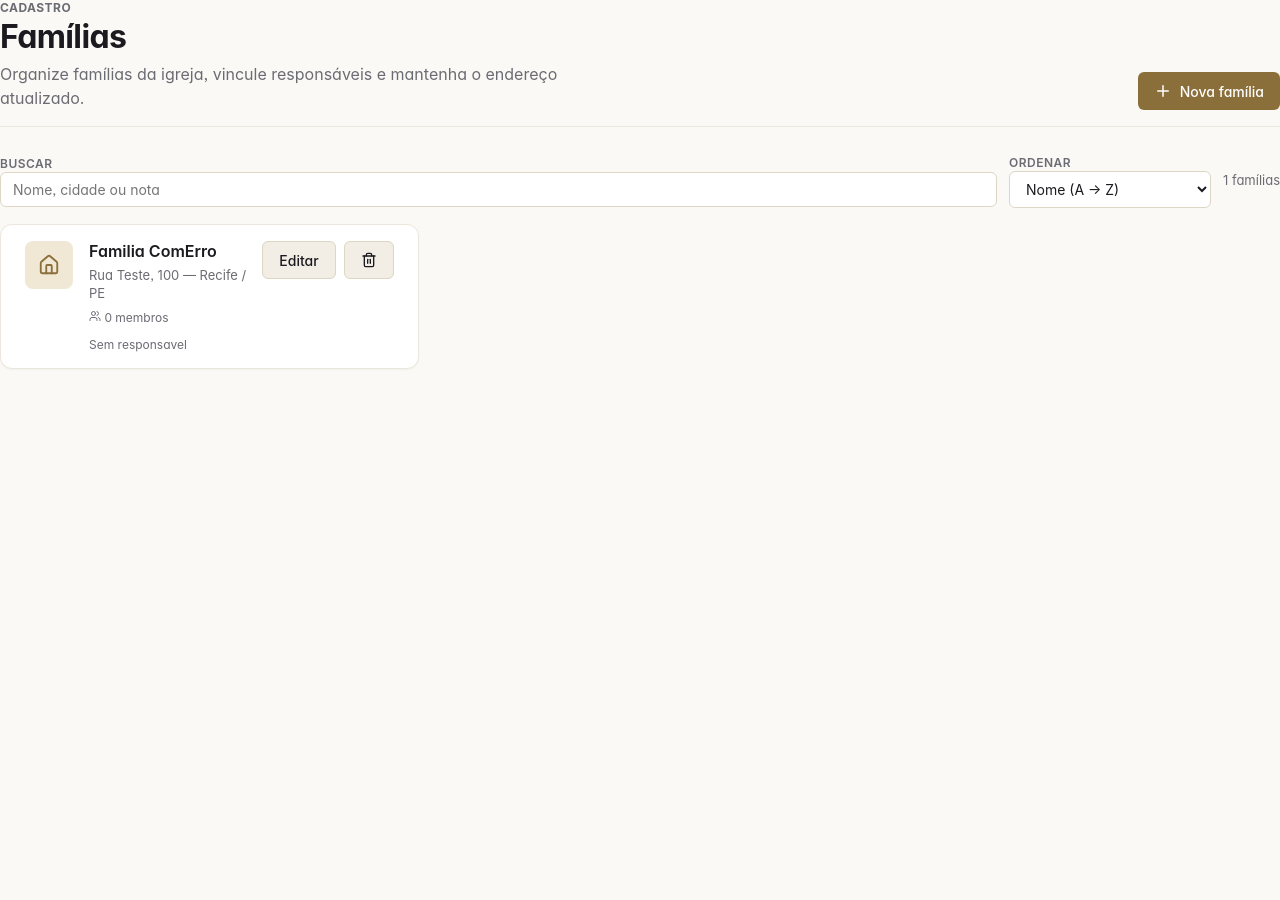
Test: HouseholdsView › shows a danger toast when archive fails
Expected: the heading "Familia ComErro" is shown, x1=89 y1=241 x2=217 y2=262
Click the button named "Arquivar familia Familia ComErro".
click(369, 260)  # box x1=344 y1=241 x2=394 y2=279
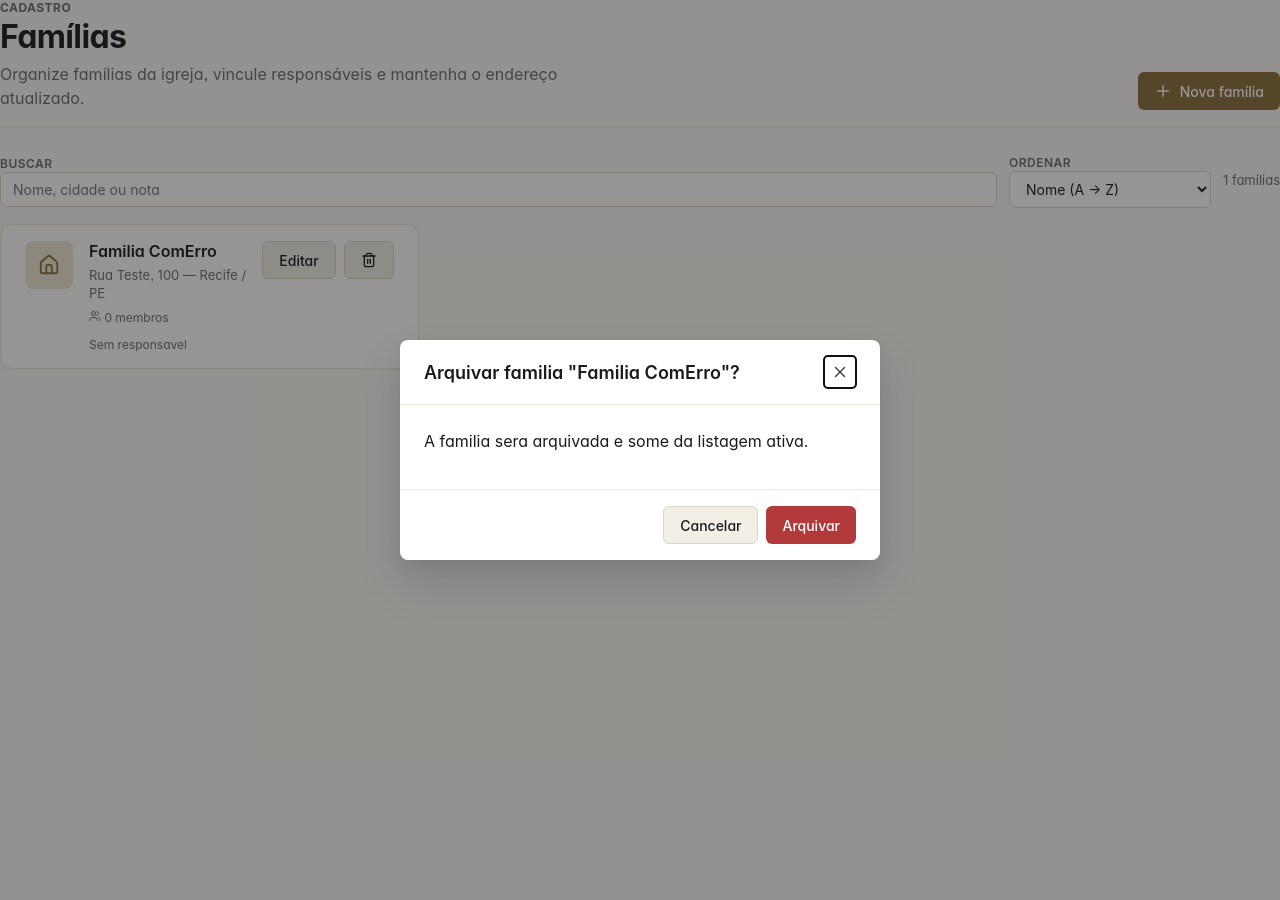
Click the button with test id "confirm-dialog-confirm".
click(811, 525)  # box x1=766 y1=506 x2=856 y2=544
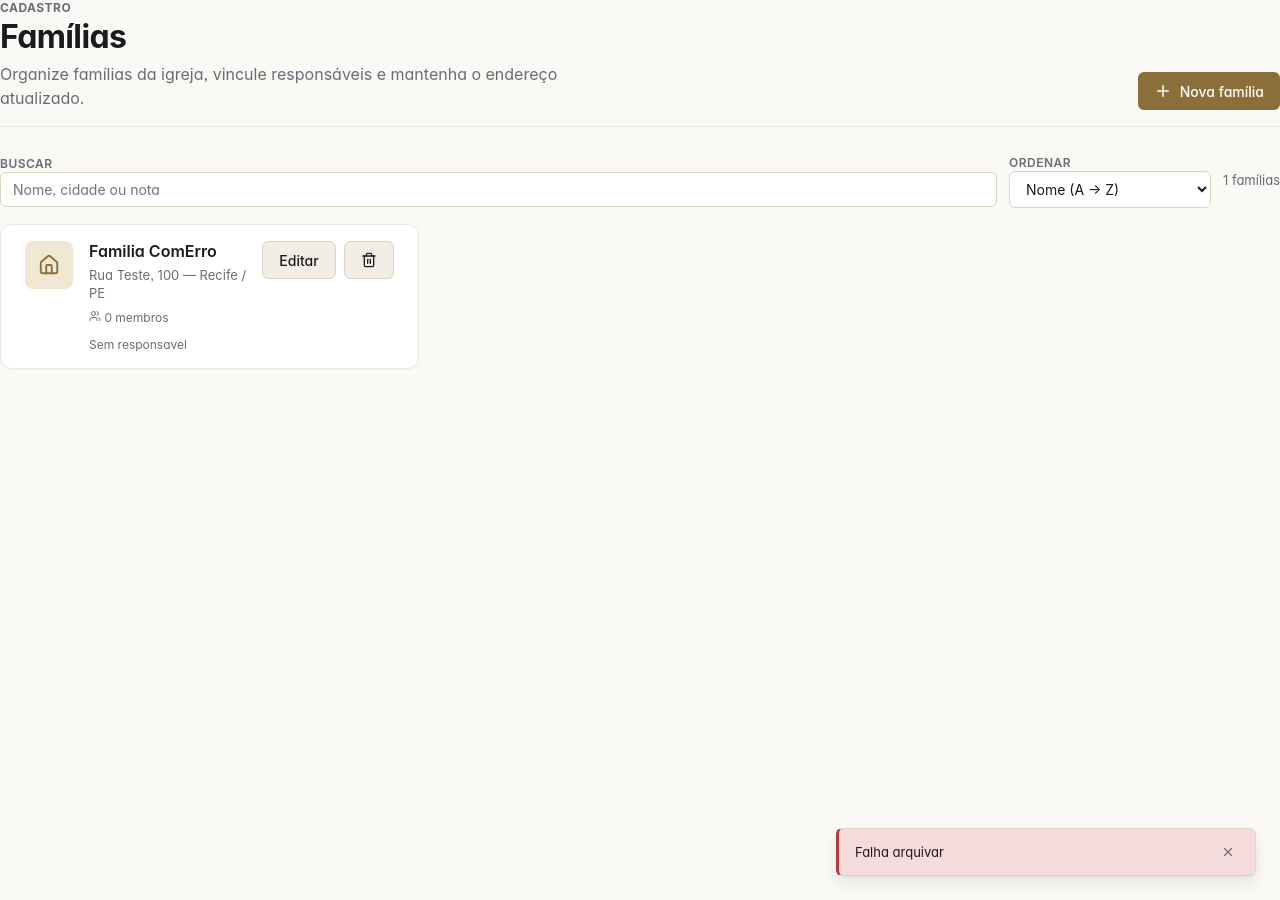
Expected: the text "Falha arquivar" is shown, x1=855 y1=844 x2=944 y2=860
